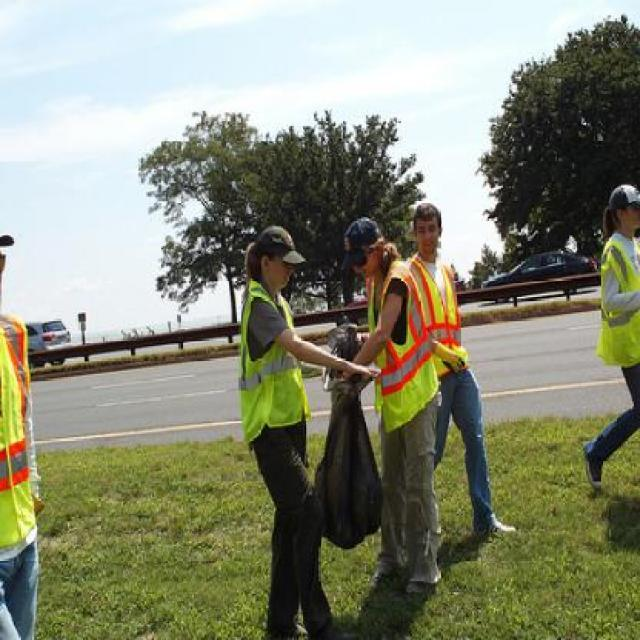garbage: (303, 340, 384, 548)
